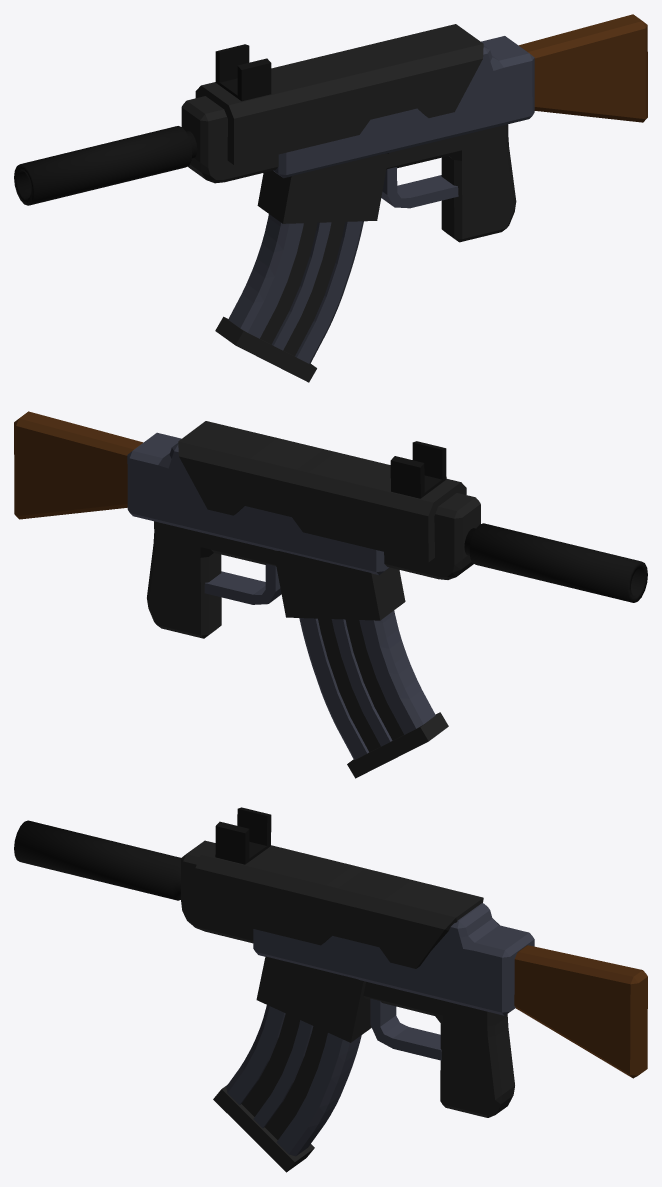
3 renders of one model, top to bottom at view 1: azimuth 30°, elevation 25°; view 2: azimuth 150°, elevation 25°; view 3: azimuth 330°, elevation 25°, orthographic.
Visible parts, largest first — view 1: AK_Cube.276; view 2: AK_Cube.276; view 3: AK_Cube.276.
Boxes of the visible parts, bbox=[...] form: AK_Cube.276: bbox=[14, 14, 647, 382]; AK_Cube.276: bbox=[14, 411, 647, 778]; AK_Cube.276: bbox=[14, 807, 647, 1172].
Size of the model in its own units: 1.42 by 0.7303 by 0.1537.
